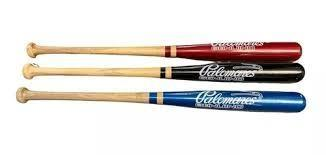Baseball-Bat: (16, 87, 306, 112), (23, 62, 305, 82), (27, 42, 302, 62)
